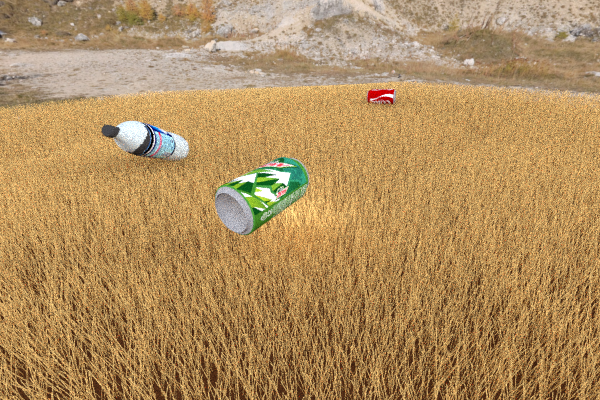bottle: (101, 120, 189, 161)
can: (214, 157, 309, 235), (366, 88, 396, 104)
